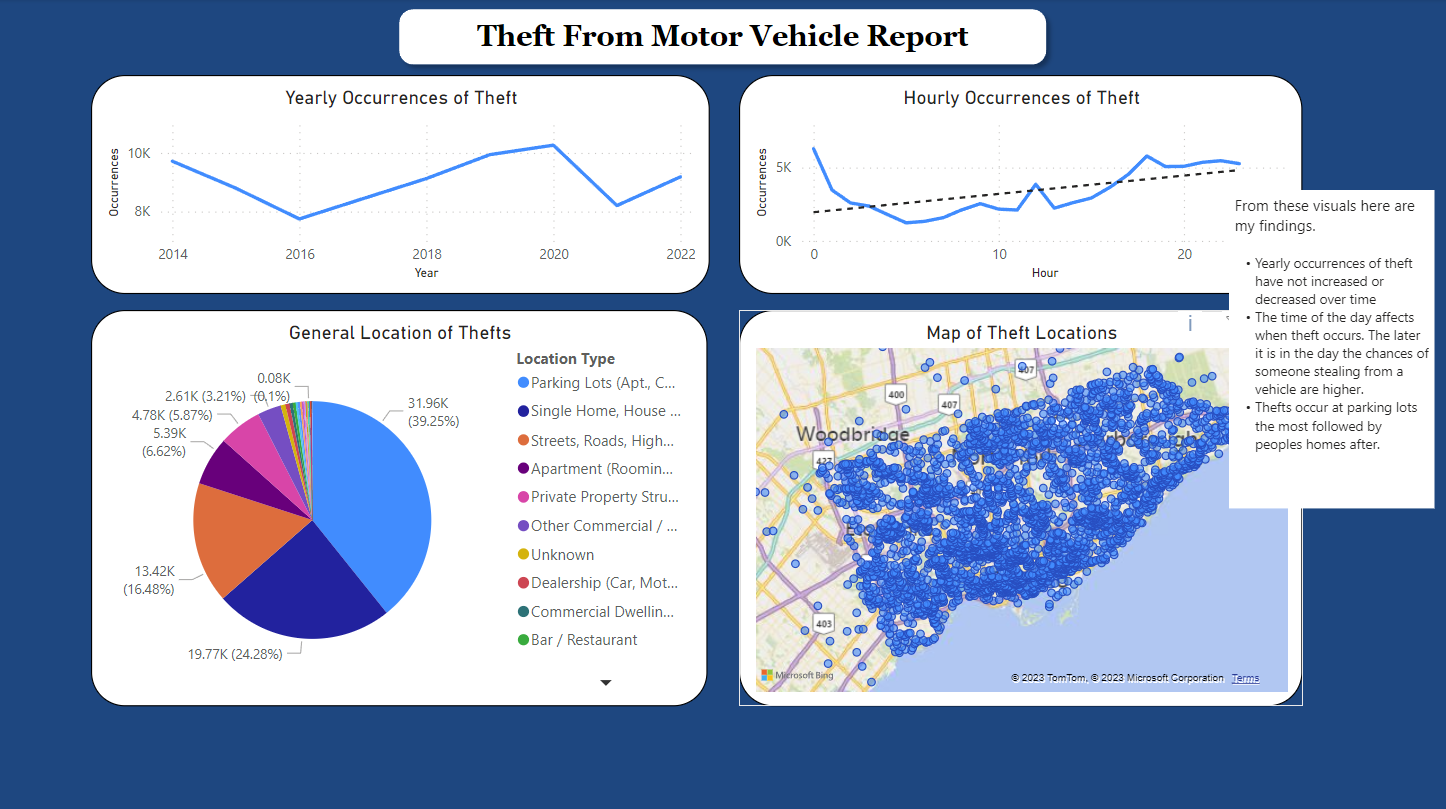

Layout of this report page (visuals, bound fields, positions):
{"tool":"powerbi","page":{"name":"Page 1","canvas":[1280,720],"ordinal":0},"visuals":[{"type":"lineChart","title":"Yearly Occurrences of Theft","fields":{"Category":["Toronto_Theft_From_Vehicle.OCC_YEAR"],"Y":["CountNonNull(Toronto_Theft_From_Vehicle.OCC_YEAR)"]},"box":[80.7,67.1,547.6,193.6],"z":0},{"type":"lineChart","title":"Hourly Occurrences of Theft","fields":{"Category":["Toronto_Theft_From_Vehicle.OCC_HOUR"],"Y":["CountNonNull(Toronto_Theft_From_Vehicle.OCC_HOUR)"]},"box":[654.6,67.1,499,193.6],"z":1000},{"type":"map","title":"Map of Theft Locations","fields":{"Y":["Toronto_Theft_From_Vehicle.LAT_WGS84"],"X":["Toronto_Theft_From_Vehicle.LONG_WGS84"]},"box":[654.6,275.3,499,351.1],"z":2000},{"type":"pieChart","title":"General Location of Thefts","fields":{"Category":["Toronto_Theft_From_Vehicle.LOCATION_TYPE"],"Y":["CountNonNull(Toronto_Theft_From_Vehicle.LOCATION_TYPE)"]},"box":[80.7,275.3,545.7,351.1],"z":3000},{"type":"shape","box":[344.3,0,591.4,67.1],"z":4000},{"type":"textbox","box":[1088.4,169.2,181.9,282.1],"z":4001}]}

Visuals, with their boxes in screenshot pixels (x1, y1, x2, y2), scaled from the page's 1280x720 canvas onto the 1446x809 screenshot:
"Yearly Occurrences of Theft" lineChart: 91:75:710:293
"Hourly Occurrences of Theft" lineChart: 739:75:1303:293
"Map of Theft Locations" map: 739:309:1303:704
"General Location of Thefts" pieChart: 91:309:708:704
shape: 389:0:1057:75
textbox: 1230:190:1435:507
